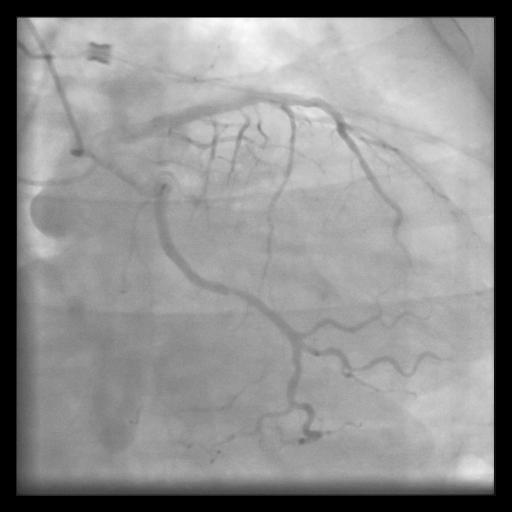Stenosis: (225, 281, 241, 297)
